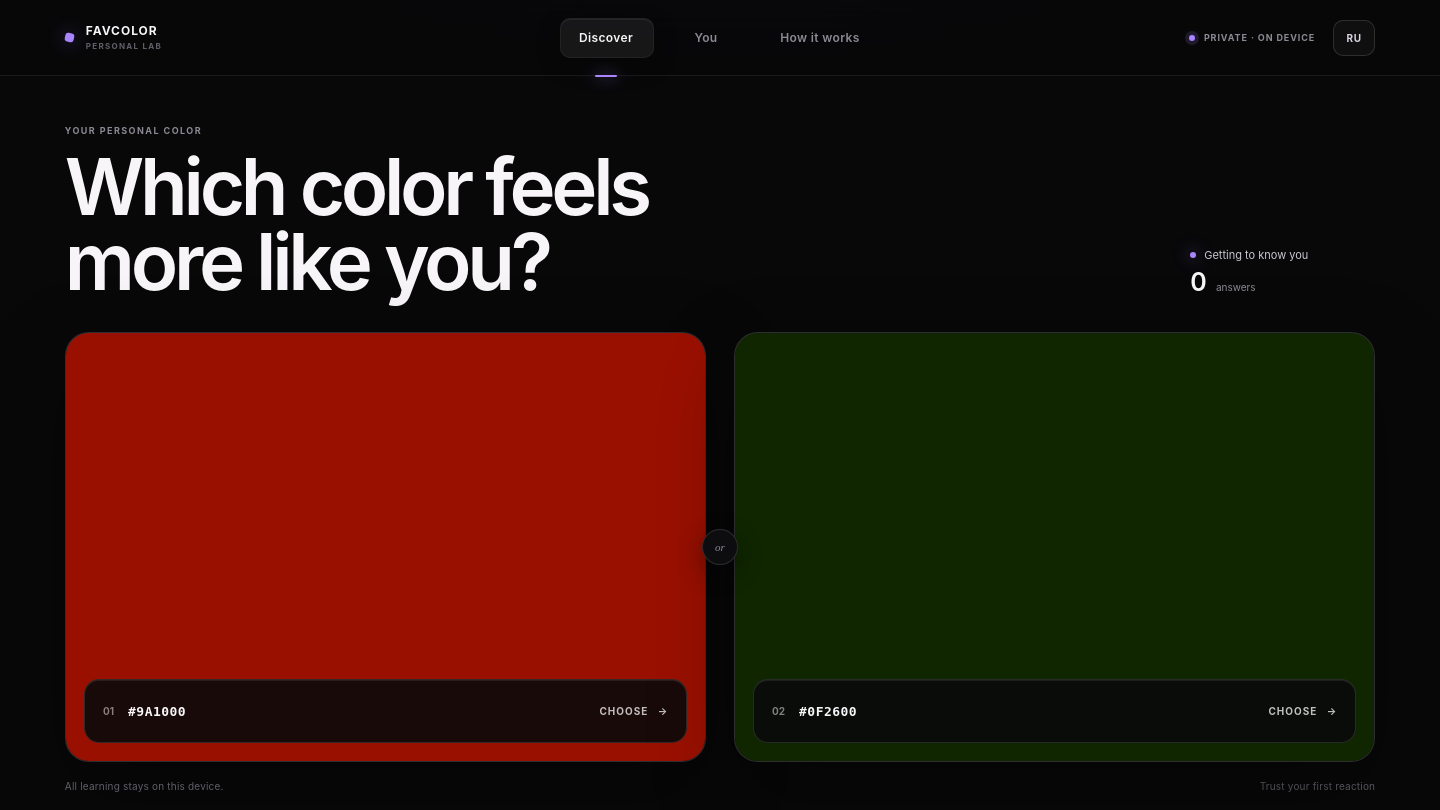
Scenario: product flow › shows honest unavailable metrics and a real saved history day
Click the button "02 #0f2600 Choose →" at (1055, 547), box [734,332,1375,762]
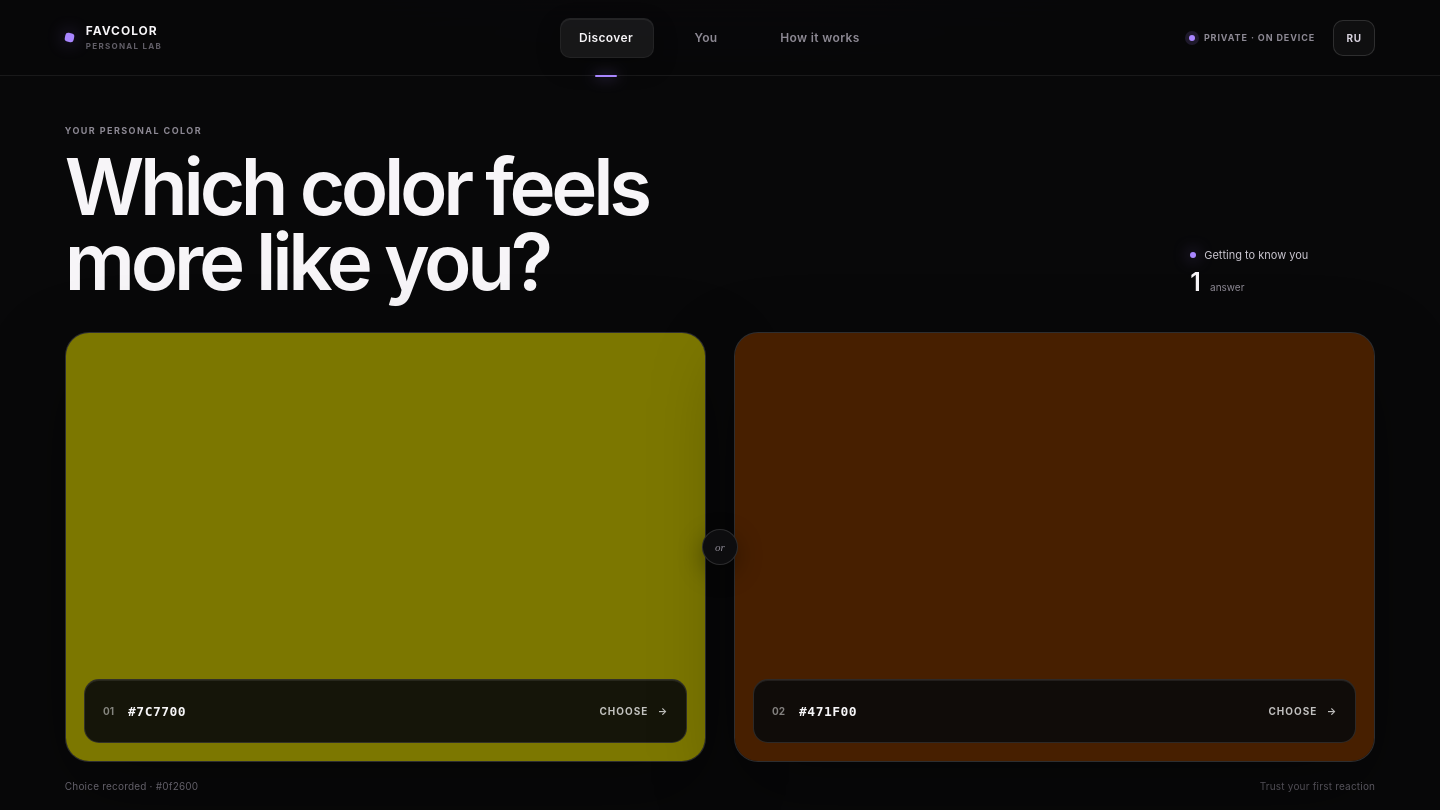
Now the text "Choice recorded · #0f2600" is shown, box [65,780,198,792]
Click the tab "You" at (706, 38), box [660,18,752,56]
(page scrolled)
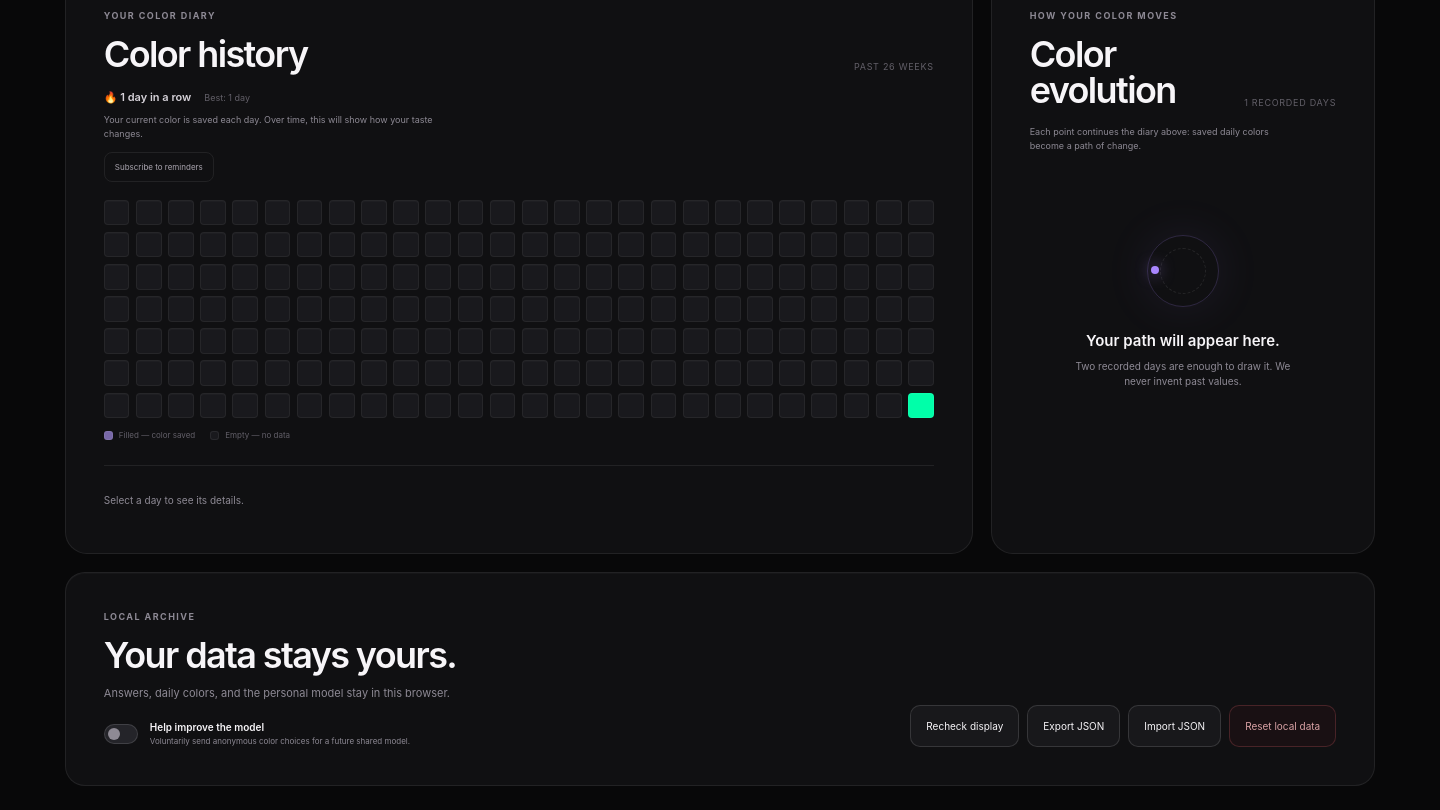
Now the button named "estimated color for" is shown, box [908,393,934,418]
